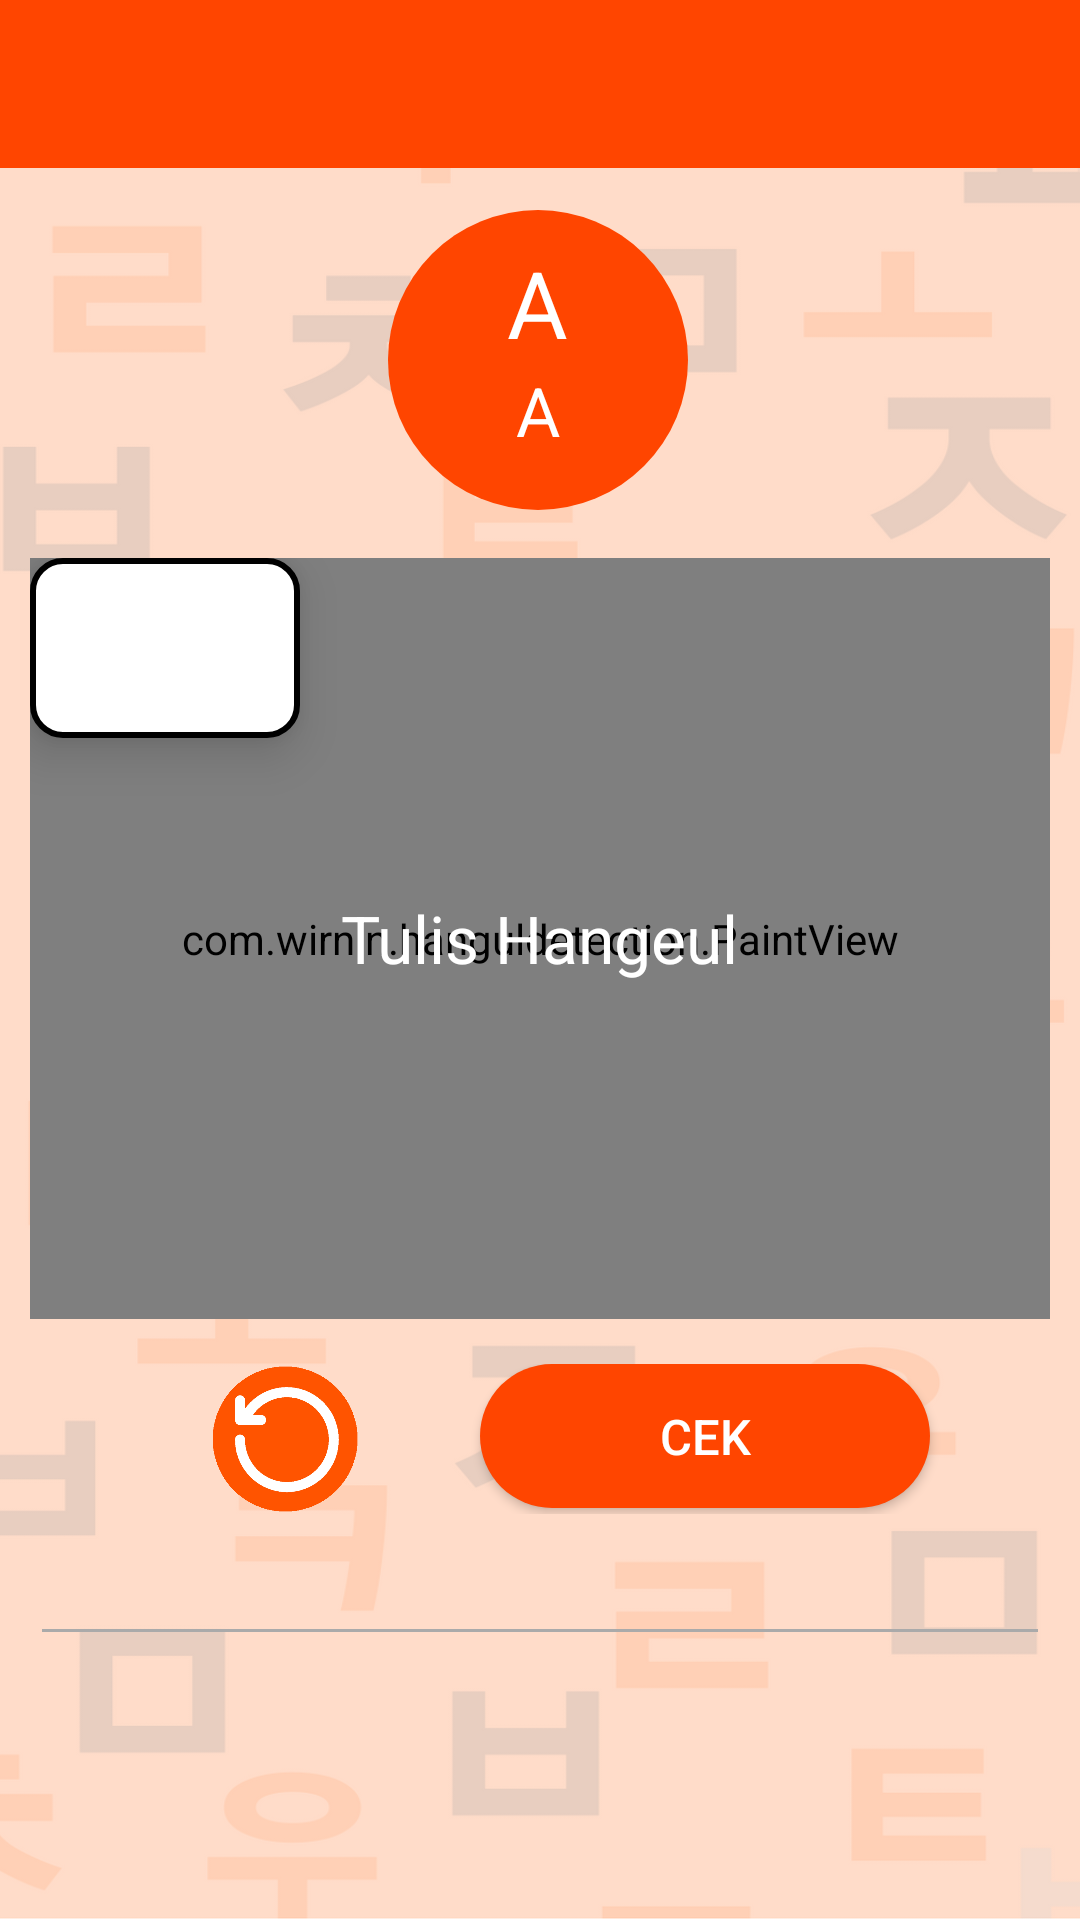

Icons on this 1080×1920 Android screen, each with the point to tap as point (x, y):
iconreset: point (285, 1439)
